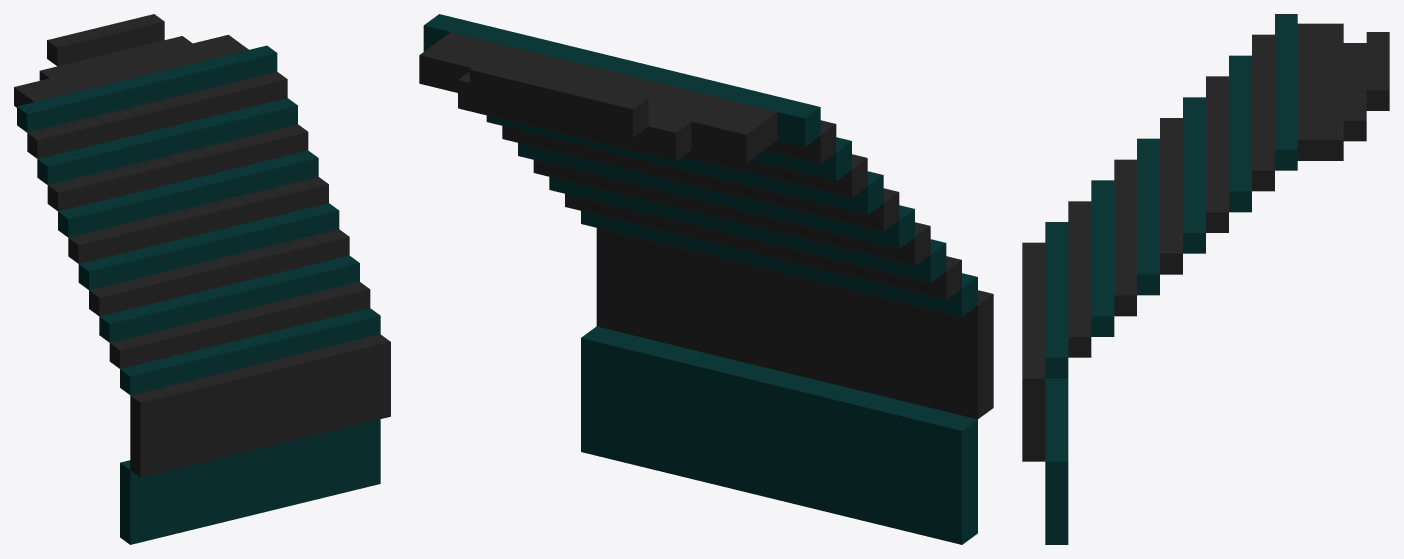
File: EnemyCastleDoor.obj
The picture shows the model from 3 angles, left to right: view 1: azimuth 30°, elevation 25°; view 2: azimuth 150°, elevation 25°; view 3: azimuth 270°, elevation 25°; orthographic projection. The views are drawn at different scales.
Bounding box in the file's own units: 14 × 20 × 16.
Materials: 1 (1 with a texture image).
